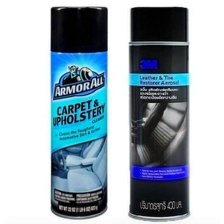aerosol_cans: (122, 2, 196, 224), (47, 2, 111, 221)
